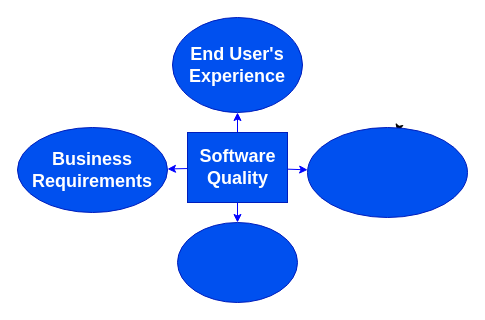
Image size: 485x320. Some labels were removed from this diagram. Here are the shapes that lost their labels. From the top down, the box of each, then its label:
(306, 126, 468, 218): Development Team's Perspective
(176, 222, 298, 302): Market Study
